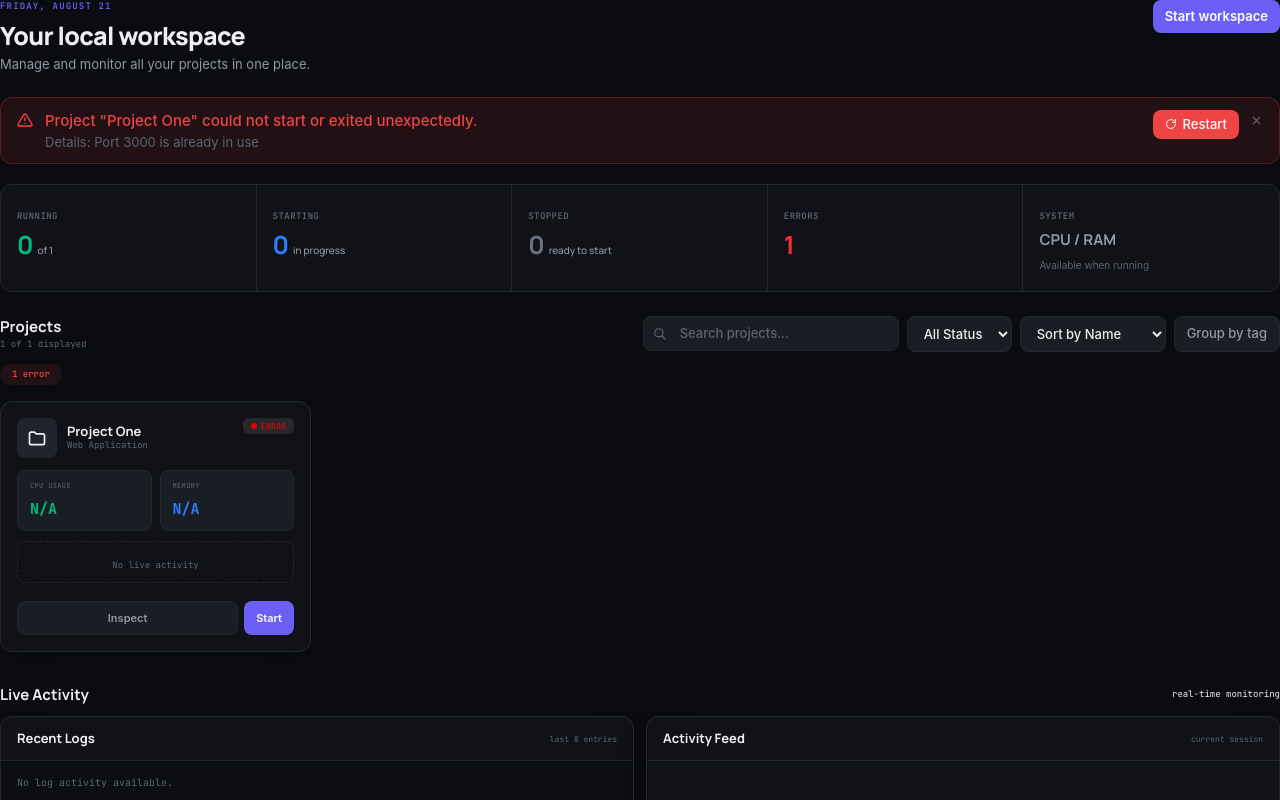
it: DashboardView errors › dismisses a project error banner
expect the message shows "Port 3000 is already in use": met, box [45, 134, 259, 150]
Click the button named "Dismiss error". click: (1256, 120)
box: [1246, 110, 1267, 130]
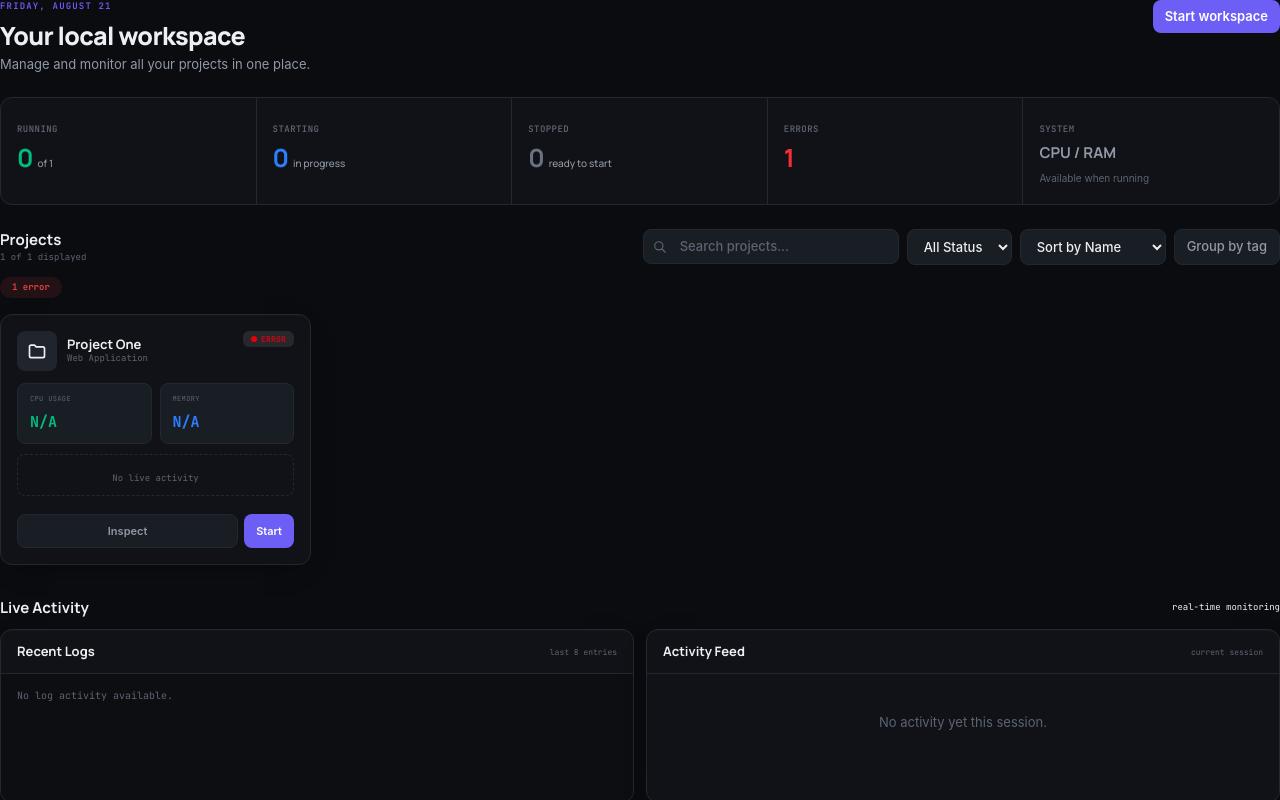
expect the message is gone: met
